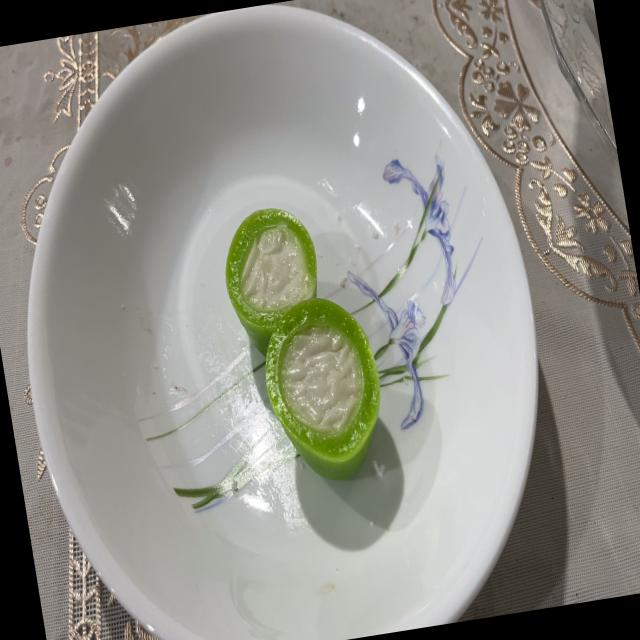nona-manis: (266, 299, 380, 480), (226, 208, 317, 356)
